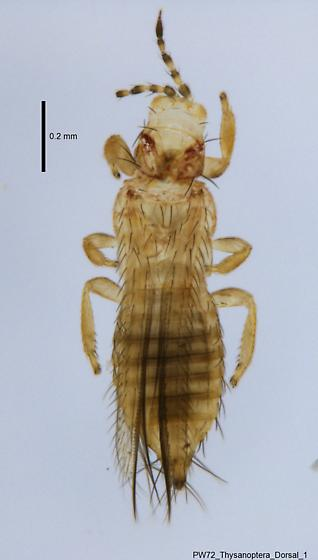Thripidae: (77, 11, 258, 525)
